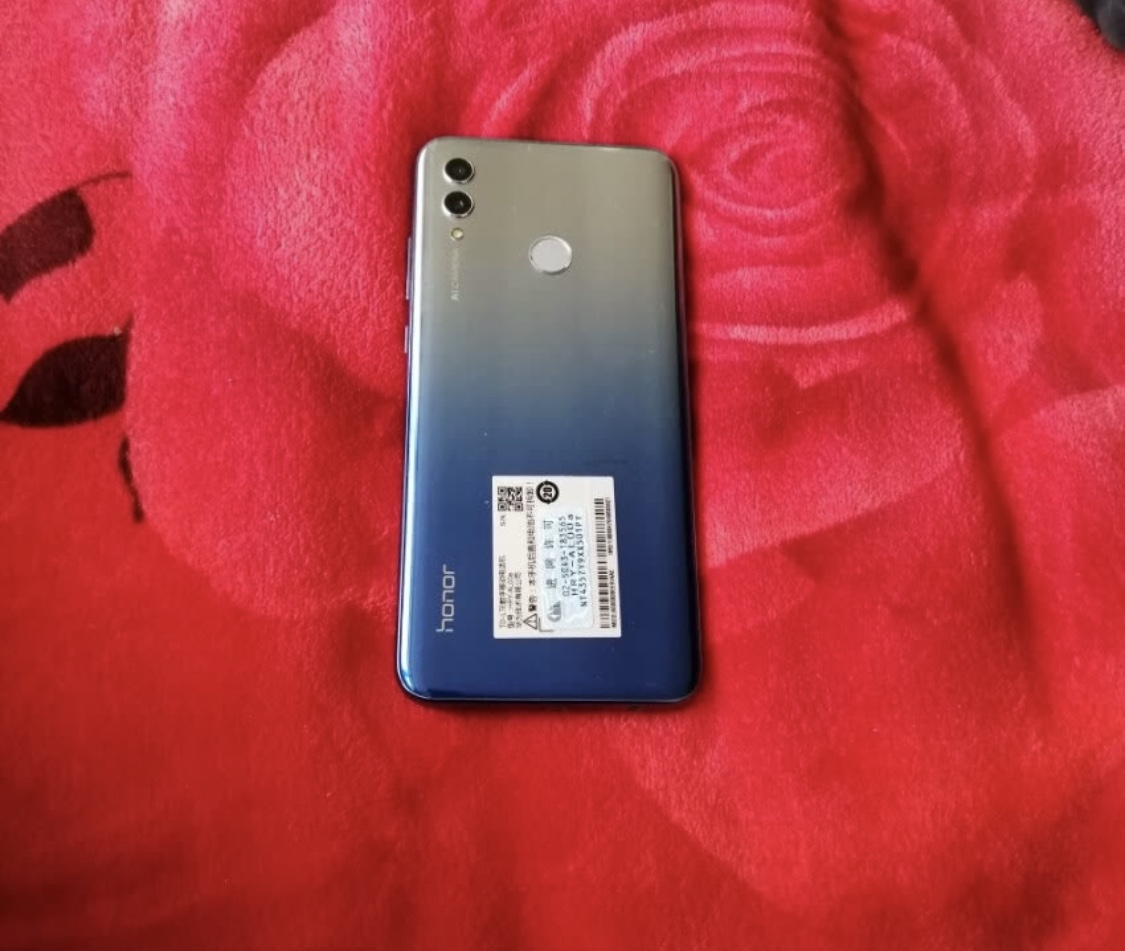mobil: (391, 123, 707, 708)
